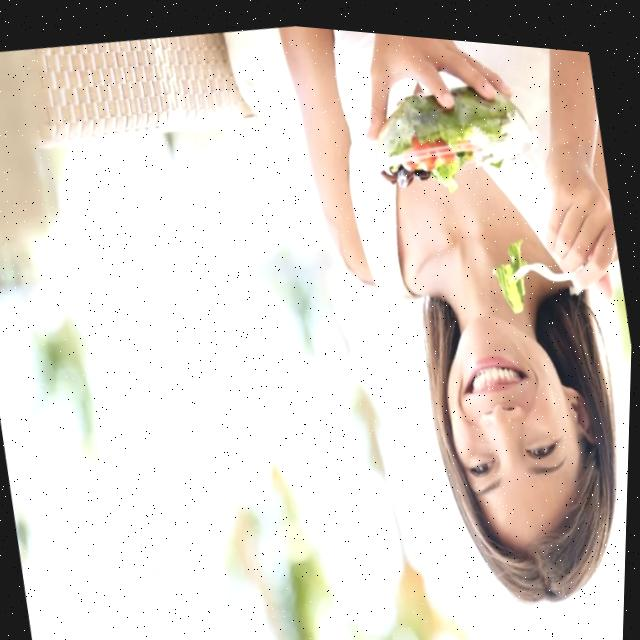eating-person: (264, 19, 640, 640)
